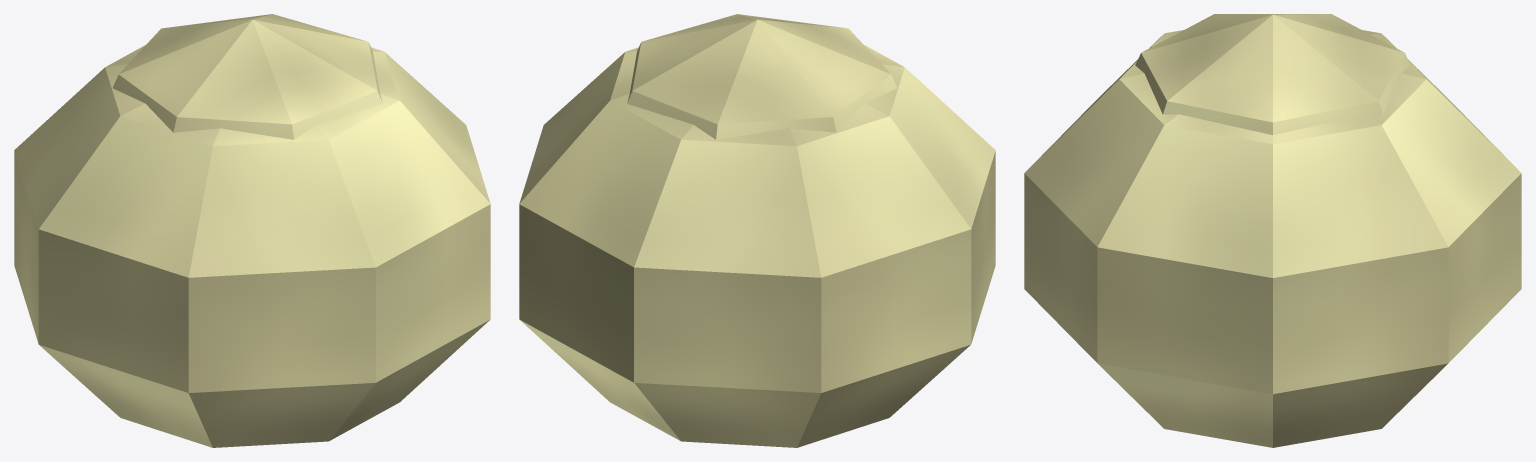
Rendered from p_verdura.obj.
3 renders of one model, left to right at view 1: azimuth 30°, elevation 25°; view 2: azimuth 150°, elevation 25°; view 3: azimuth 270°, elevation 25°, orthographic.
Visible parts, largest first — view 1: erba_000, erba_001; view 2: erba_000, erba_001; view 3: erba_000, erba_001.
Boxes of the visible parts, x1=… form: erba_000: x1=14, y1=45, x2=490, y2=447; erba_001: x1=112, y1=14, x2=382, y2=139; erba_000: x1=519, y1=45, x2=995, y2=447; erba_001: x1=627, y1=14, x2=897, y2=139; erba_000: x1=1024, y1=30, x2=1521, y2=447; erba_001: x1=1135, y1=14, x2=1410, y2=135.
Bounding box in the file's own units: 0.156 × 0.14 × 0.156.
2 materials, 2 textured.
